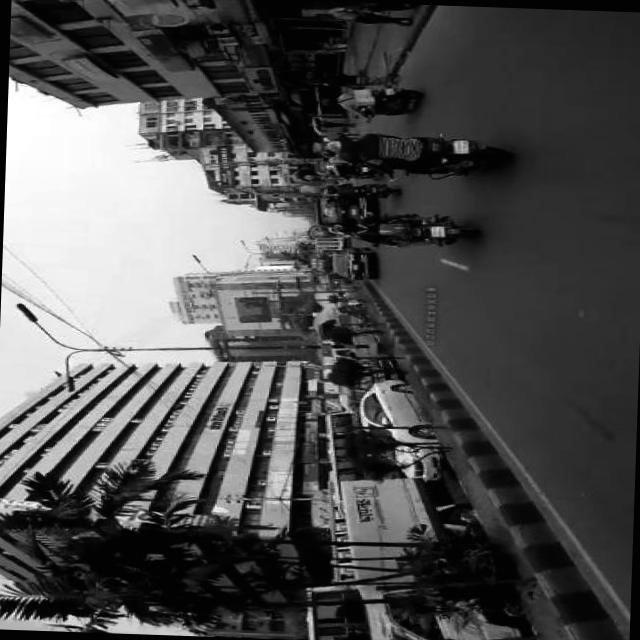bus: (298, 576, 392, 640), (316, 408, 372, 514)
car: (353, 375, 440, 479), (321, 501, 354, 582), (326, 244, 368, 278)
motorcycle: (406, 130, 508, 180), (381, 214, 476, 243), (349, 83, 418, 116), (348, 180, 395, 198)
truck: (329, 473, 531, 640), (310, 192, 365, 226)
